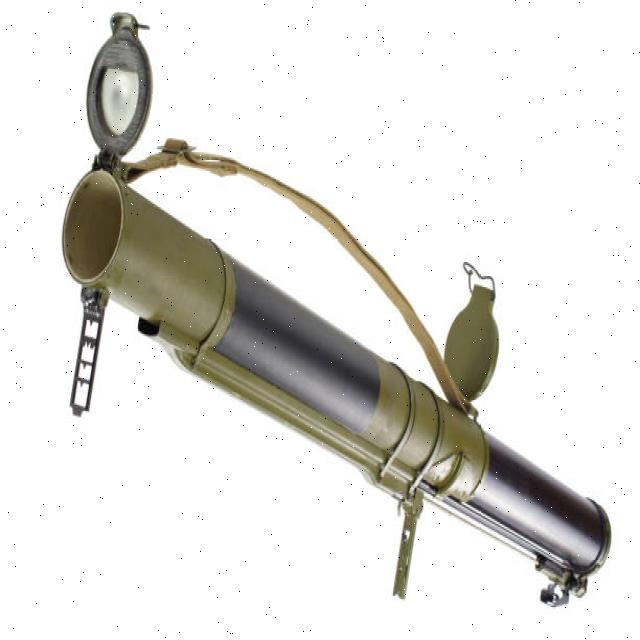bazooka: (59, 10, 617, 627)
